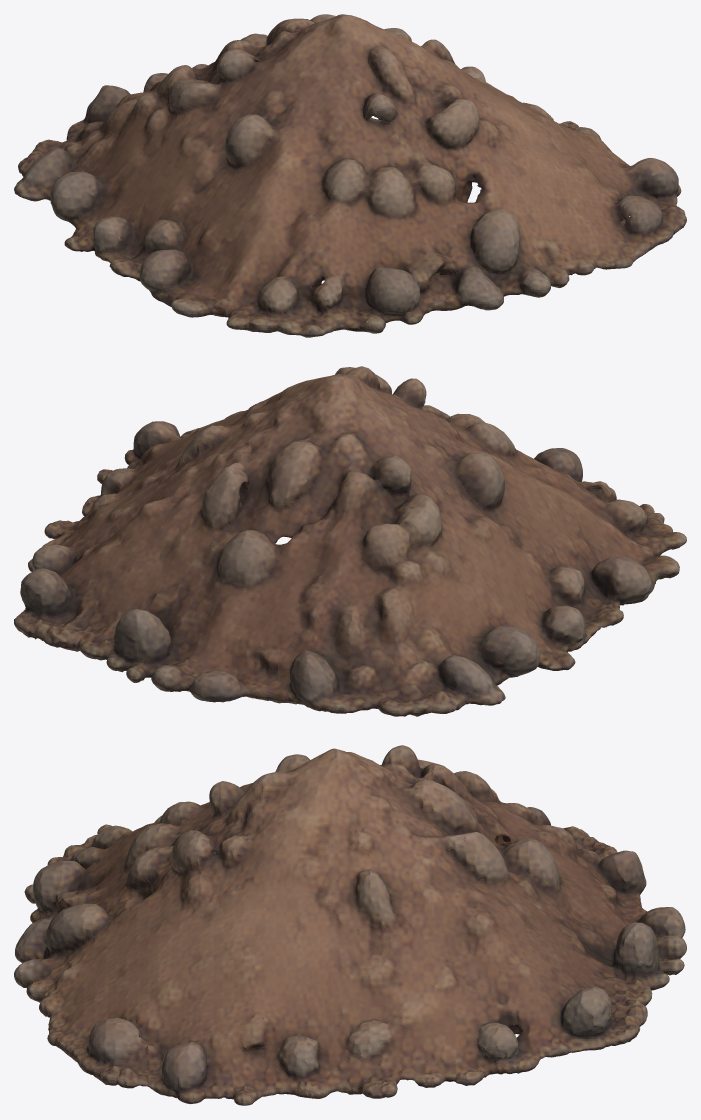
Rendered from scatter_dirtmount.glb.
3 views of the same model, one above another, from view 1: azimuth 30°, elevation 25°; view 2: azimuth 150°, elevation 25°; view 3: azimuth 270°, elevation 25° (orthographic). The views are drawn at different scales.
Visible parts, largest first — view 1: world; view 2: world; view 3: world.
Boxes of the visible parts, x1,y1,x2,y2 form: world: [14, 14, 686, 337]; world: [14, 366, 686, 716]; world: [14, 745, 686, 1105].
Bounding box in the file's own units: 0.9703 × 0.3554 × 0.9935.
